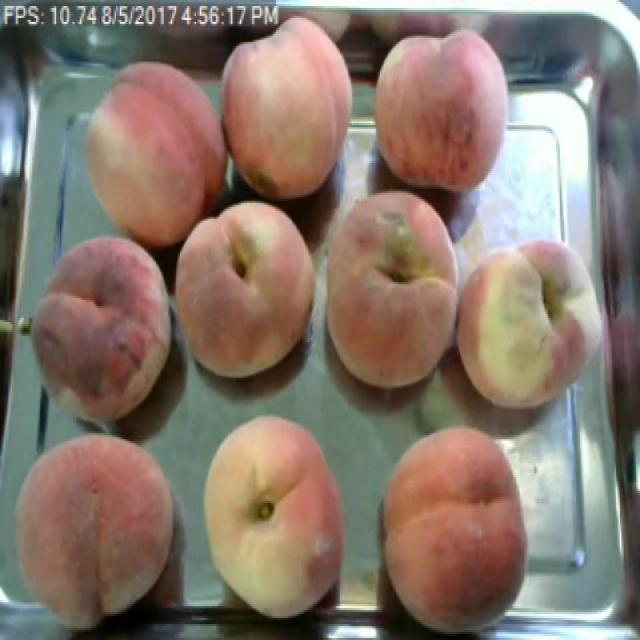Fruit: (2, 413, 194, 640), (182, 398, 362, 630), (367, 415, 541, 640), (11, 221, 182, 447), (320, 175, 481, 405), (442, 225, 614, 425), (171, 189, 329, 395), (75, 50, 229, 258), (364, 16, 521, 209), (216, 14, 363, 211)
